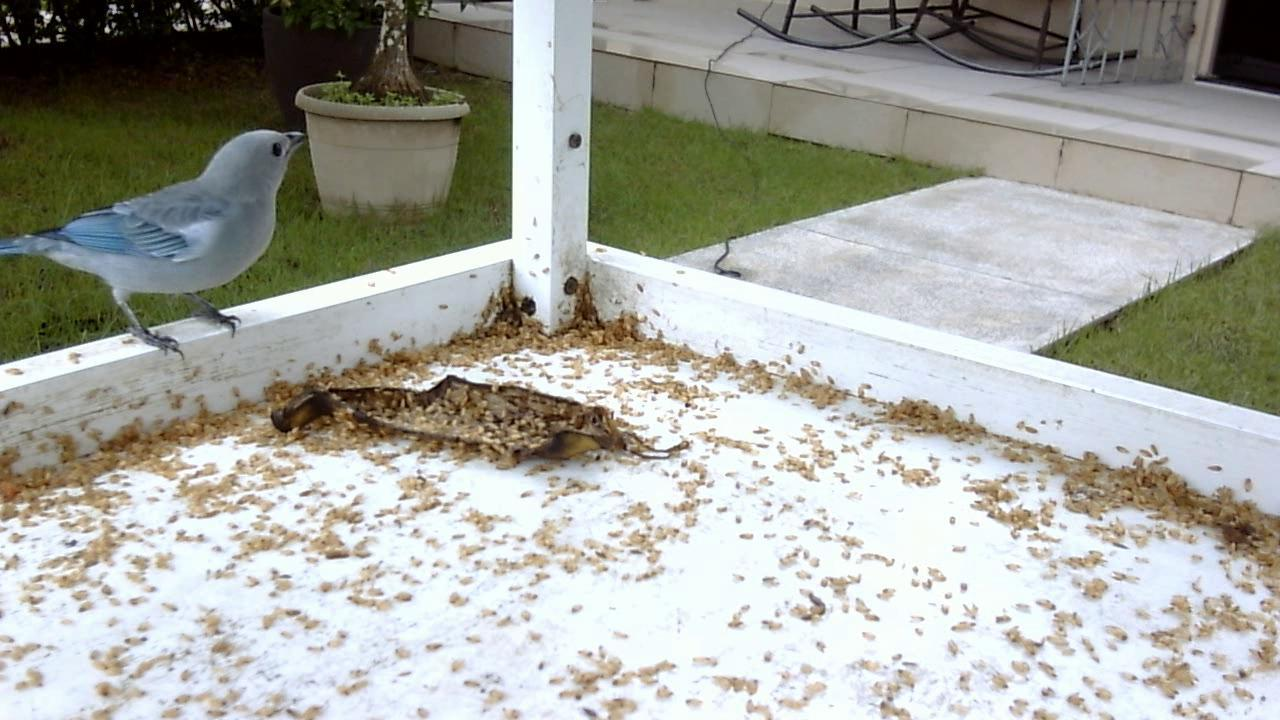sanhaco_da_amazonia: (9, 127, 305, 371)
